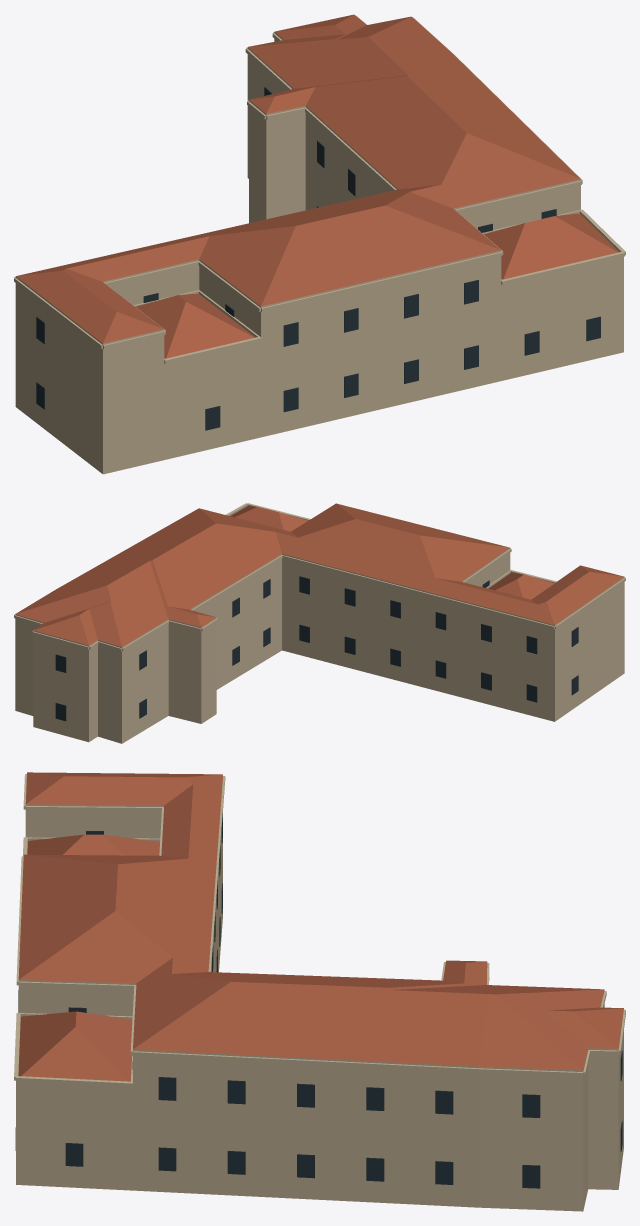
The model's file is opera-pisa.glb.
3 views of the same model, one above another, from view 1: azimuth 30°, elevation 25°; view 2: azimuth 150°, elevation 25°; view 3: azimuth 270°, elevation 25° (orthographic). The views are drawn at different scales.
Parts seen in each view (by area): view 1: primary-envelope, primary-roof, mapped-part, mapped-roof, cornice, window-rhythm; view 2: primary-envelope, primary-roof, window-rhythm, cornice, mapped-roof; view 3: primary-roof, primary-envelope, mapped-part, mapped-roof, cornice, window-rhythm.
Boxes of the visible parts, <box> form: primary-envelope: <box>15,32,580,474</box>; primary-roof: <box>16,14,580,343</box>; mapped-part: <box>164,256,623,459</box>; mapped-roof: <box>135,213,619,358</box>; cornice: <box>14,16,625,363</box>; window-rhythm: <box>36,87,600,430</box>; primary-envelope: <box>15,548,624,743</box>; primary-roof: <box>15,503,624,646</box>; window-rhythm: <box>55,576,578,721</box>; cornice: <box>14,503,625,651</box>; mapped-roof: <box>230,506,554,599</box>; primary-roof: <box>18,772,623,1070</box>; primary-envelope: <box>18,778,623,1211</box>; mapped-part: <box>16,1081,132,1190</box>; mapped-roof: <box>18,834,159,1081</box>; cornice: <box>14,774,625,1087</box>; window-rhythm: <box>15,813,622,1188</box>.
Size of the model in its own units: 16 by 4.32 by 13.8.
